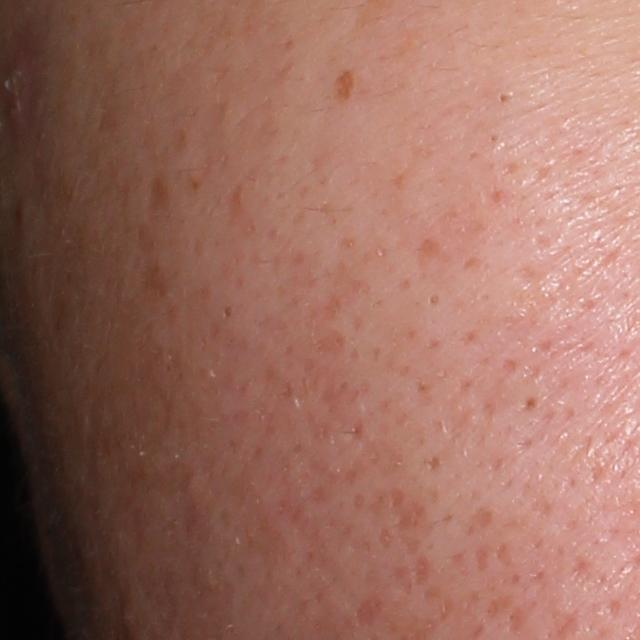atrophic_scar: (354, 593, 384, 631)
comedo: (519, 398, 539, 412), (492, 93, 510, 107), (425, 295, 441, 310)
melasma: (141, 170, 174, 216), (331, 66, 356, 100)
